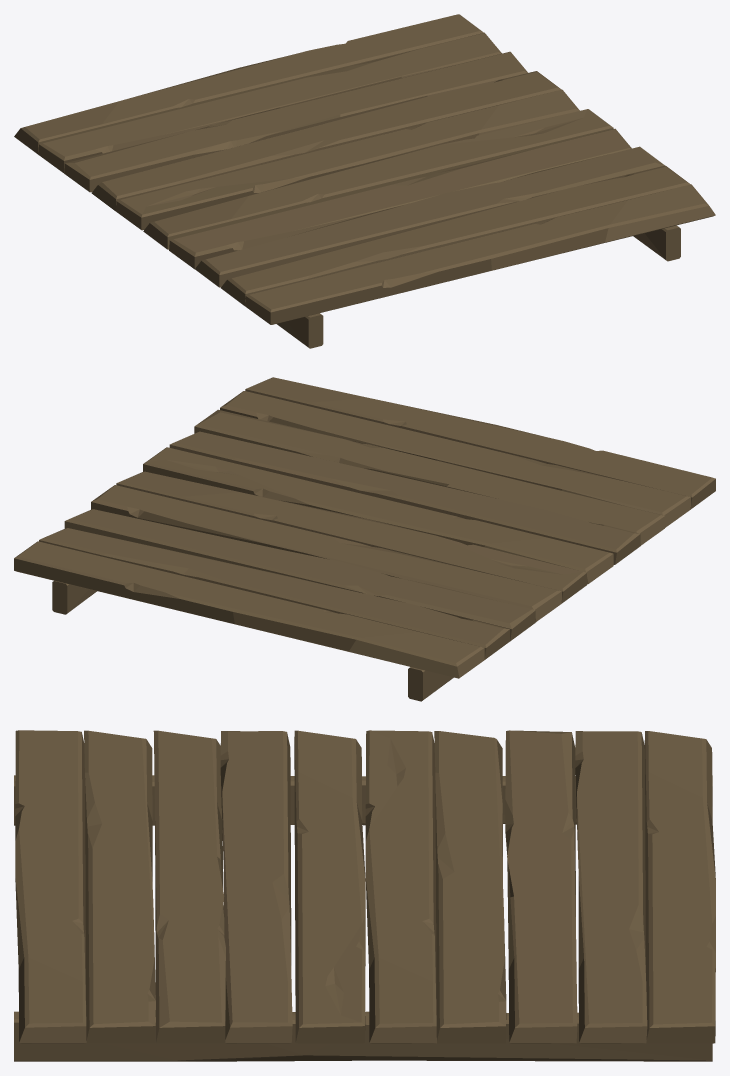
Rendered from greek_dock.fbx.
3 views of the same model, one above another, from view 1: azimuth 30°, elevation 25°; view 2: azimuth 150°, elevation 25°; view 3: azimuth 270°, elevation 25° (orthographic). The views are drawn at different scales.
Parts seen in each view (by area): view 1: Cube.080; view 2: Cube.080; view 3: Cube.080.
Part boxes in pixels (<box>): Cube.080: <box>14,14,715,348</box>; Cube.080: <box>14,377,715,701</box>; Cube.080: <box>14,730,715,1061</box>.
Size of the model in its own units: 301 by 30.42 by 301.
